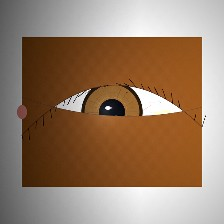pinguecula_lesion: (142, 96, 189, 134)
